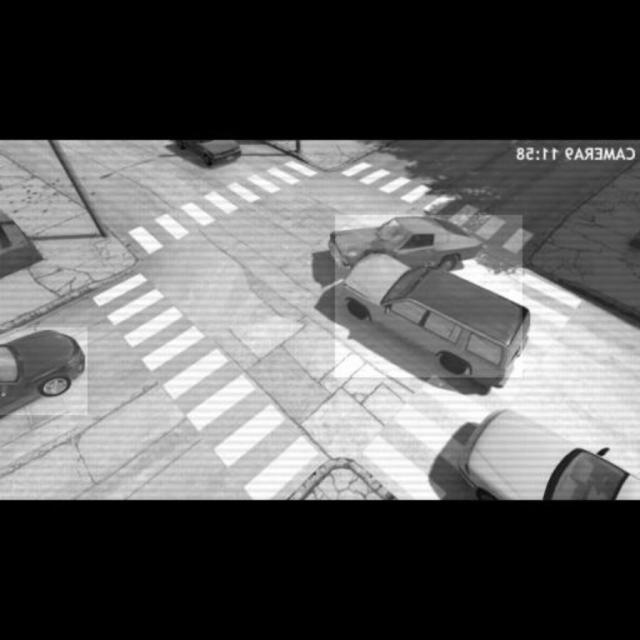accident: (336, 216, 523, 378)
vehicle: (469, 408, 637, 501), (0, 327, 88, 415), (175, 138, 239, 175)
